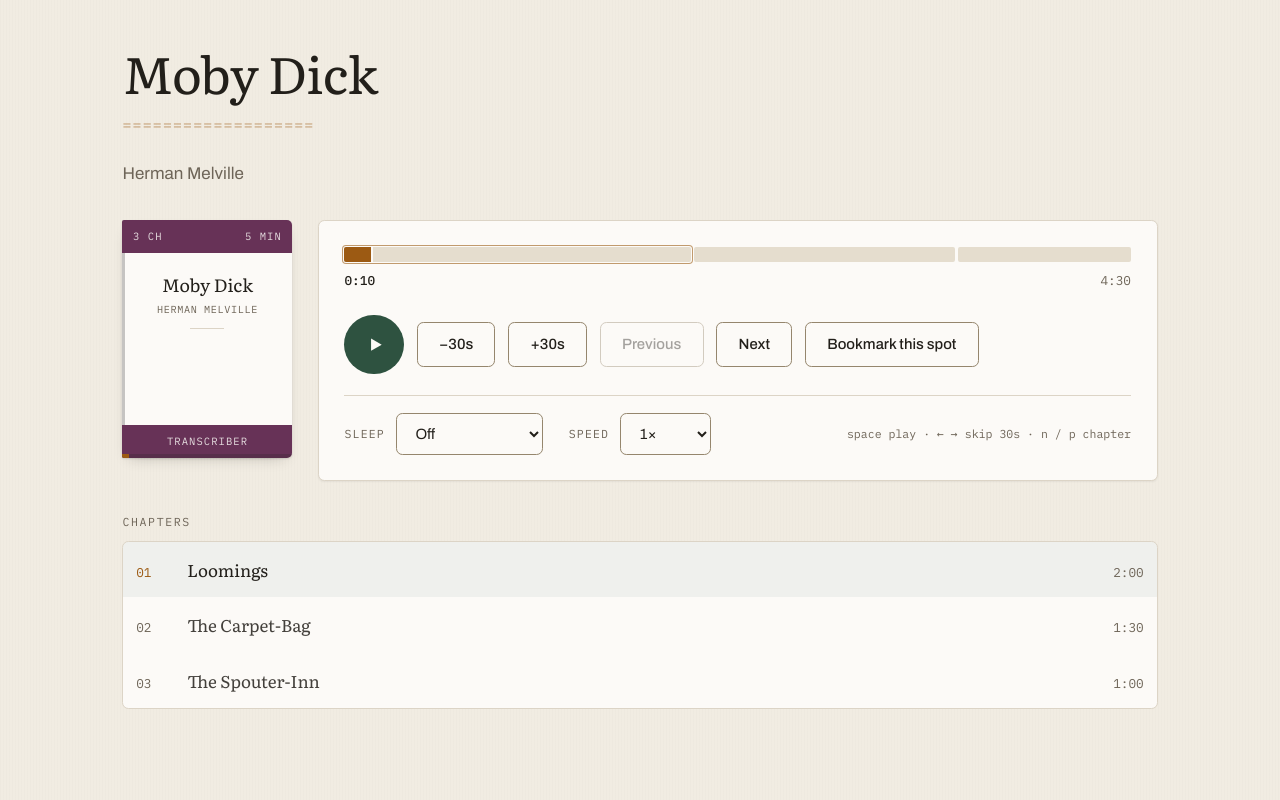
Scenario: Skip controls › forward moves the book on by 30 seconds
Expected: the text "Loomings" is shown, [187,557,268,582]
What coordinates should you click on to do the following:
click the button named "forward 30 seconds"
I would click on:
 (548, 344)
Its box is [508,322,587,367].
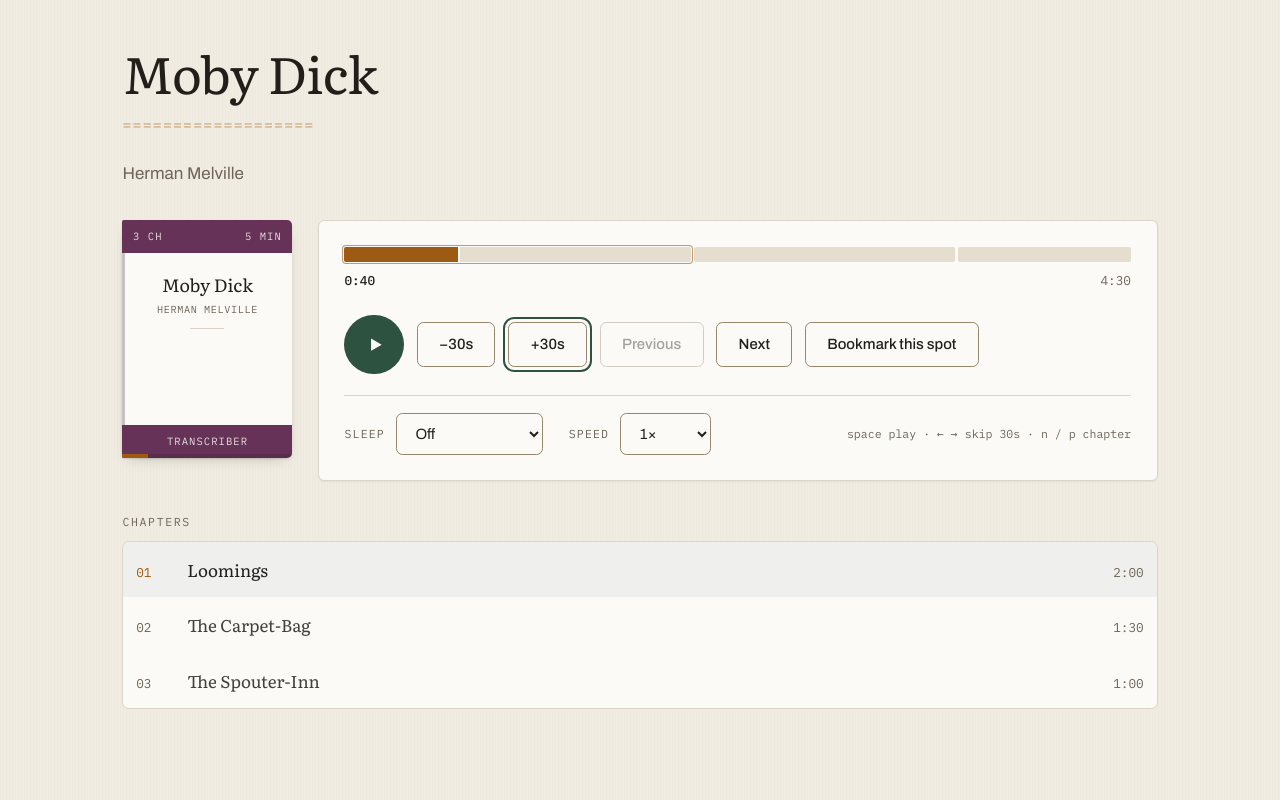
Expected: the text with test id "book-position" reads "0:40", [344,272,375,289]
